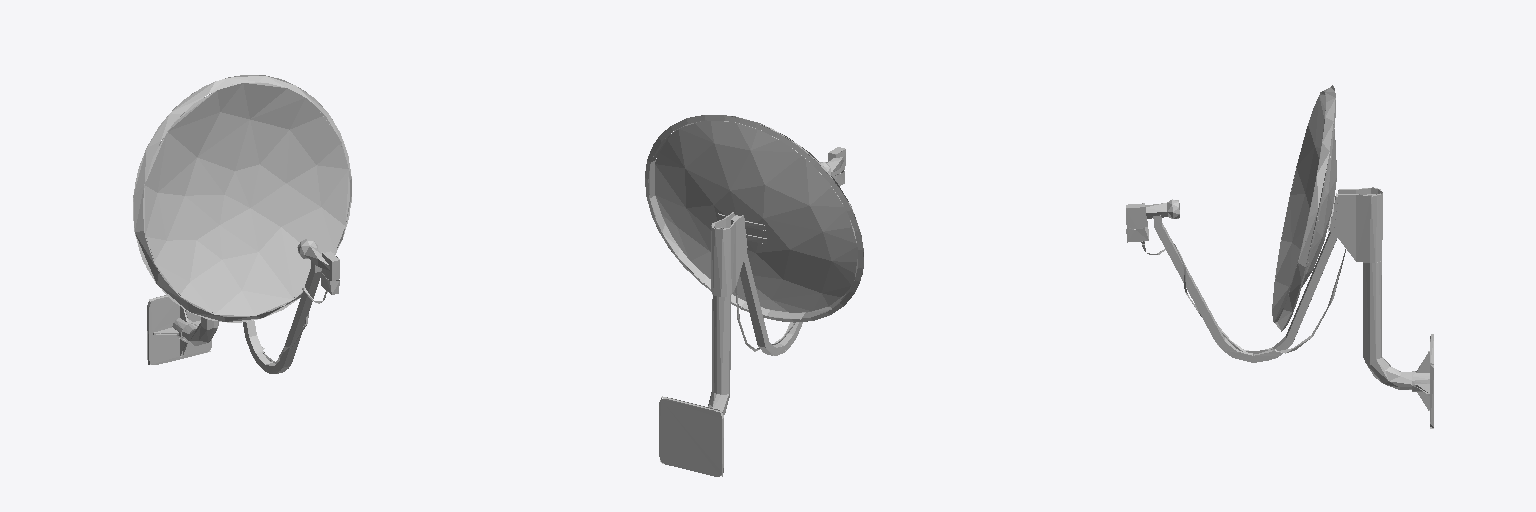
File: satellite_dish.obj
3 renders of one model, left to right at view 1: azimuth 30°, elevation 25°; view 2: azimuth 150°, elevation 25°; view 3: azimuth 270°, elevation 25°, orthographic.
Parts seen in each view (by area): view 1: Dish_Checker.002_0; view 2: Dish_Checker.002_0; view 3: Dish_Checker.002_0.
Part boxes in pixels (left/top/right/bottom): Dish_Checker.002_0: left=133, top=75, right=351, bottom=373; Dish_Checker.002_0: left=645, top=115, right=863, bottom=476; Dish_Checker.002_0: left=1126, top=85, right=1433, bottom=428.
Size of the model in its own units: 7.06 by 9.82 by 8.68.